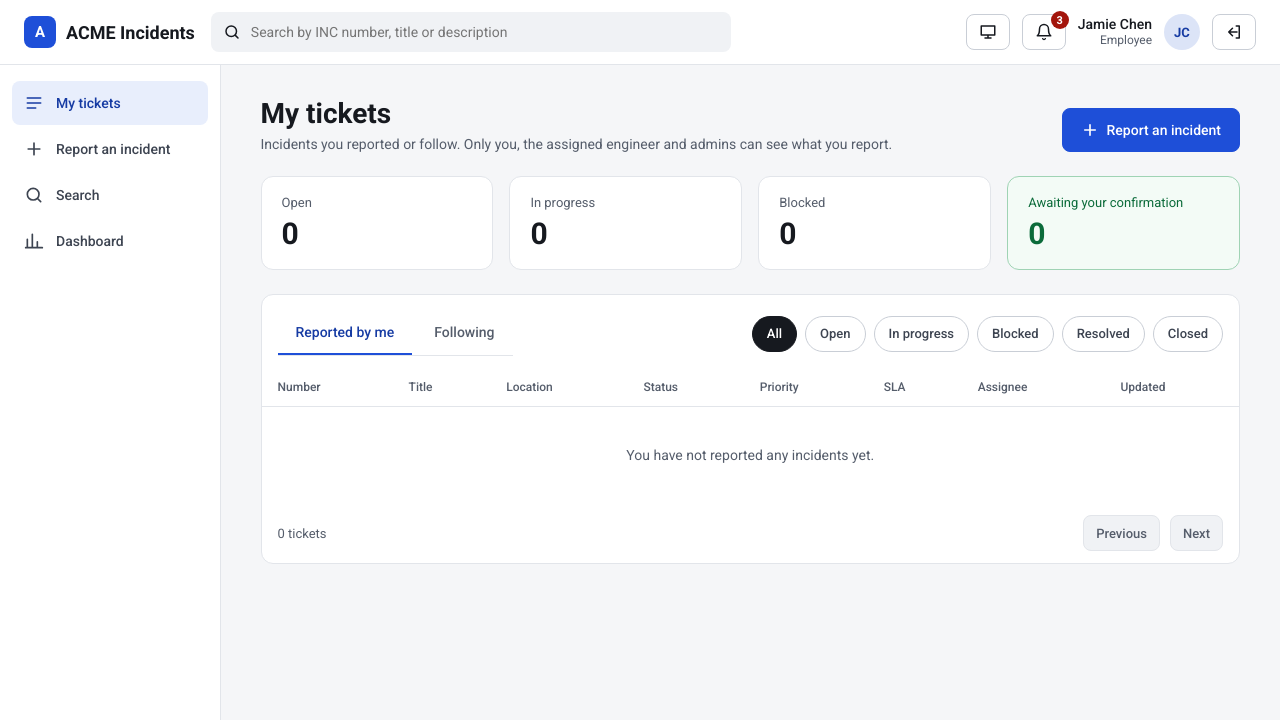
Scenario: notification bell › stops polling after sign-out unmounts the layout
expect the link named "Notifications, 3 unread" is shown: met, box [1022,14,1066,50]
Click the button named "Sign out" at coordinates (1234, 32), box [1212,14,1256,50]
Wait 90000 ms
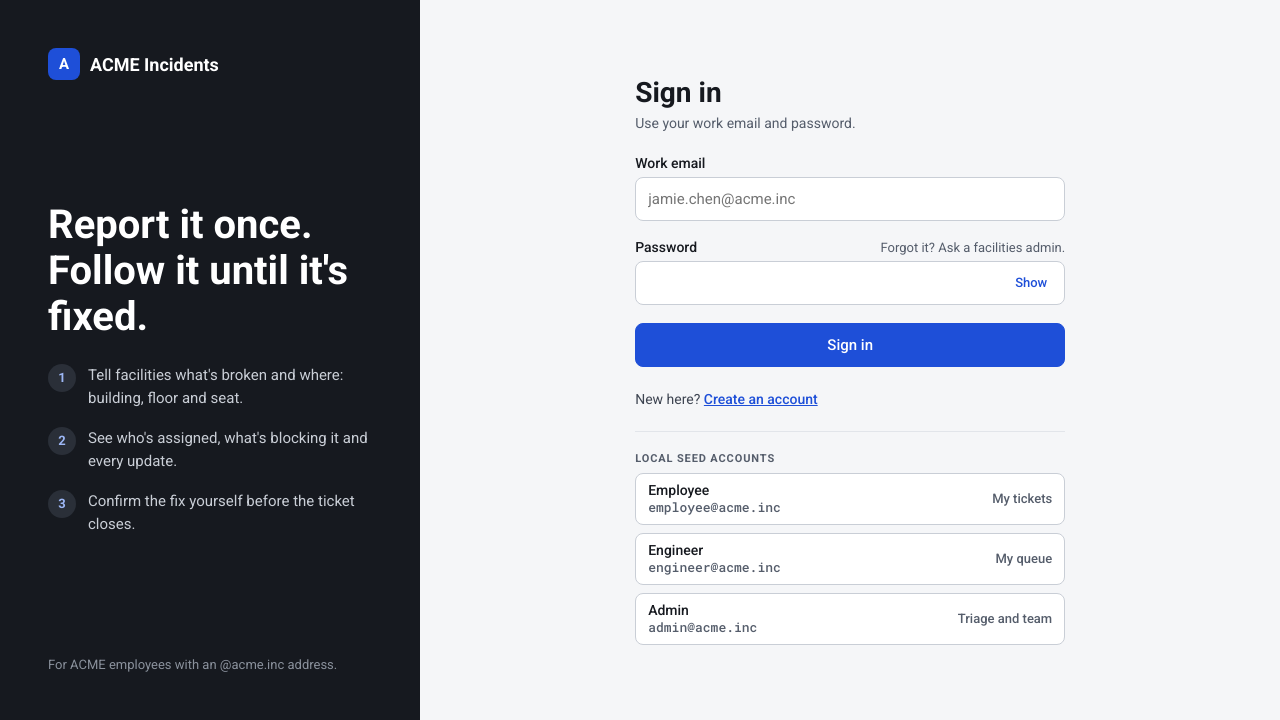
expect the button "Sign in" is shown: met, box [635,322,1065,366]
